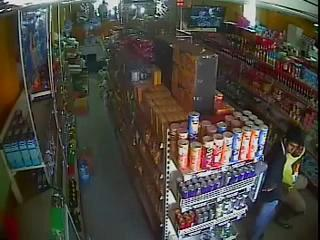Normal: (274, 126, 318, 236)
